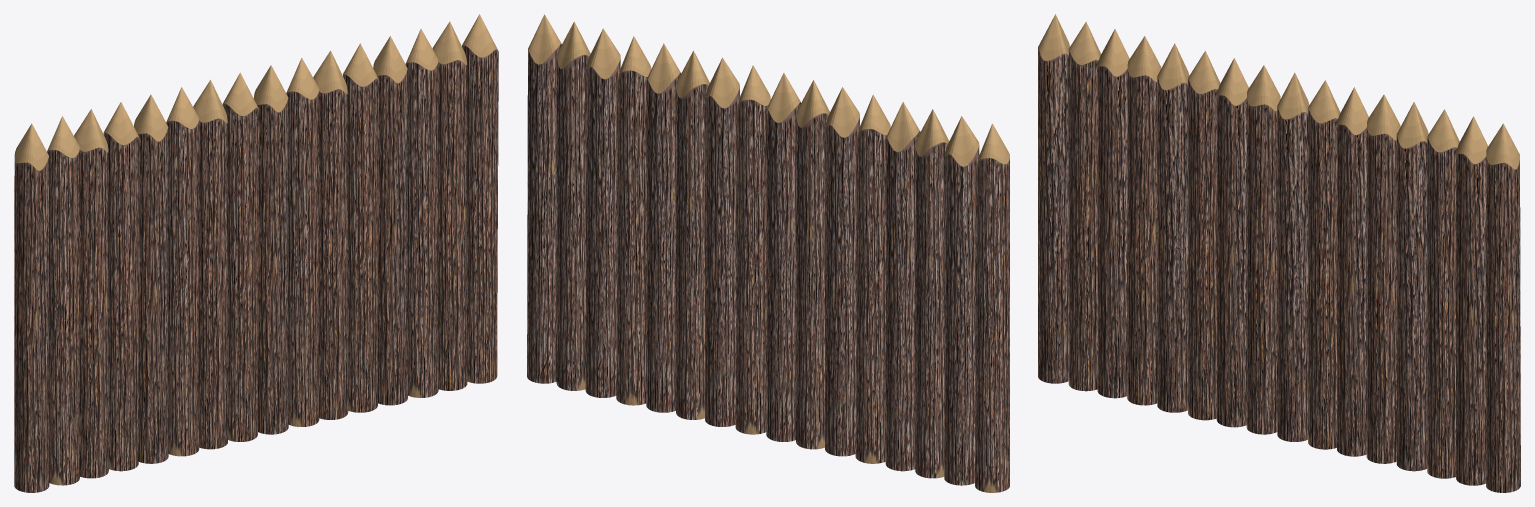
The model's file is Barricade.fbx.
3 views of the same model, side by side, from view 1: azimuth 30°, elevation 25°; view 2: azimuth 150°, elevation 25°; view 3: azimuth 330°, elevation 25° (orthographic).
Parts seen in each view (by area): view 1: Cylindre.006; view 2: Cylindre.006; view 3: Cylindre.006.
Boxes of the visible parts, box(x1,y1,x2,y2) form: Cylindre.006: box(14, 14, 498, 492); Cylindre.006: box(527, 14, 1009, 492); Cylindre.006: box(1038, 14, 1520, 492).
Bounding box in the file's own units: 415 × 300 × 27.28.
